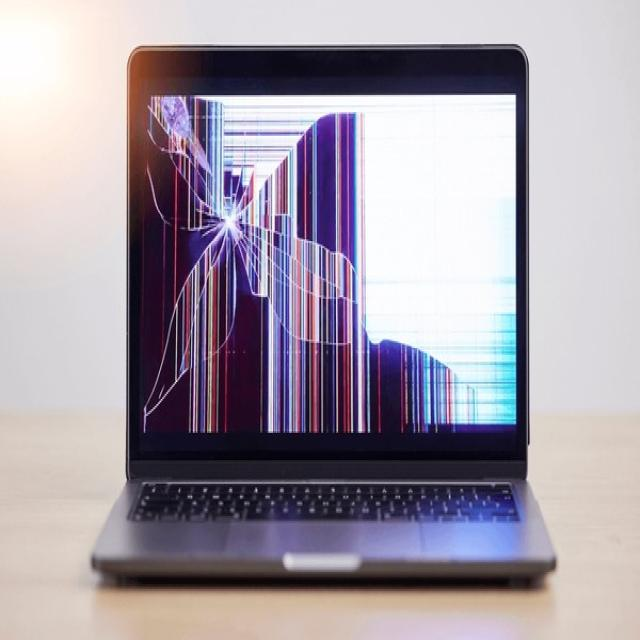electronics: (91, 46, 554, 574)
laptop: (91, 46, 554, 577)
